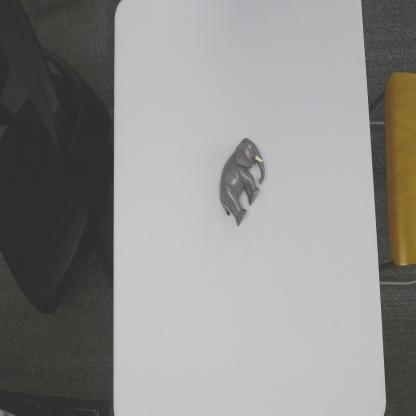Elephant: (218, 135, 267, 227)
